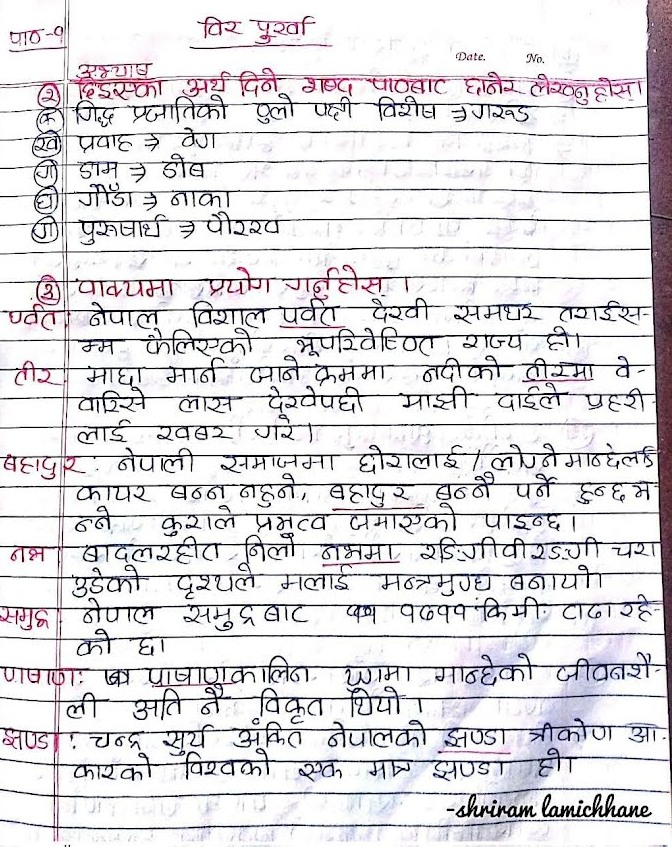text: (417, 532, 602, 564), (141, 655, 317, 688), (294, 323, 438, 357), (490, 443, 659, 471), (528, 71, 645, 106), (79, 536, 224, 564), (431, 653, 540, 689), (283, 262, 394, 297), (138, 326, 258, 358), (180, 599, 307, 629), (348, 501, 460, 535), (72, 210, 167, 248), (372, 569, 494, 597), (322, 719, 432, 749), (553, 652, 655, 684), (260, 384, 368, 414), (357, 442, 465, 472), (175, 564, 258, 600), (218, 451, 339, 475), (73, 274, 178, 301), (158, 503, 241, 537), (255, 686, 325, 726), (128, 95, 231, 122), (557, 299, 648, 329), (560, 594, 654, 622), (328, 477, 410, 509), (68, 753, 157, 782), (185, 300, 270, 330), (526, 717, 617, 745), (78, 596, 160, 627), (180, 751, 277, 777), (117, 445, 198, 476), (394, 384, 480, 413), (2, 451, 88, 480), (506, 564, 594, 592), (280, 561, 354, 594), (422, 356, 509, 384), (70, 565, 145, 597), (206, 264, 276, 298), (203, 210, 283, 239), (73, 76, 167, 100), (428, 756, 514, 782), (475, 593, 549, 623), (250, 11, 317, 44), (370, 92, 441, 123), (239, 472, 300, 508), (1, 663, 81, 690), (85, 301, 161, 329), (231, 720, 304, 749), (479, 508, 567, 532), (313, 539, 400, 563), (75, 387, 151, 414), (311, 361, 393, 386), (339, 664, 417, 690), (366, 72, 450, 96), (129, 684, 183, 721), (496, 384, 567, 412), (242, 529, 299, 563), (451, 301, 539, 323), (249, 510, 329, 534), (343, 687, 404, 718), (368, 296, 435, 324), (469, 100, 539, 126), (524, 356, 594, 382), (583, 389, 649, 416), (443, 723, 509, 749), (154, 423, 235, 444), (160, 723, 211, 756), (281, 299, 339, 328), (165, 356, 224, 384), (461, 71, 522, 98), (74, 482, 152, 503), (77, 182, 135, 210), (292, 756, 346, 786), (164, 479, 231, 503), (83, 727, 150, 751), (1, 600, 51, 632), (396, 601, 467, 623), (4, 303, 61, 330), (461, 331, 525, 355), (434, 477, 498, 501), (74, 419, 133, 445), (252, 92, 297, 126), (72, 626, 117, 660), (86, 363, 147, 388), (177, 392, 240, 416), (12, 360, 60, 391), (1, 725, 52, 754), (73, 130, 134, 154), (72, 98, 119, 129), (299, 71, 355, 97), (75, 61, 155, 79), (161, 154, 212, 182), (253, 413, 299, 444), (182, 68, 231, 97), (365, 755, 414, 784), (168, 188, 239, 208), (513, 472, 559, 502), (575, 479, 628, 505), (609, 538, 661, 564), (195, 13, 245, 39), (238, 66, 280, 95), (247, 362, 305, 383), (309, 96, 355, 122), (74, 156, 121, 181), (74, 336, 125, 359), (4, 542, 54, 565), (64, 692, 106, 719), (73, 504, 113, 532), (179, 125, 222, 149), (535, 746, 568, 777), (4, 25, 46, 49), (199, 679, 227, 715), (542, 323, 572, 353), (130, 634, 159, 657), (631, 477, 654, 505), (613, 352, 633, 380), (34, 135, 60, 154), (34, 192, 57, 213), (31, 220, 56, 239), (39, 281, 57, 305), (34, 164, 57, 181), (52, 21, 67, 44), (37, 112, 58, 128), (41, 85, 56, 106)
